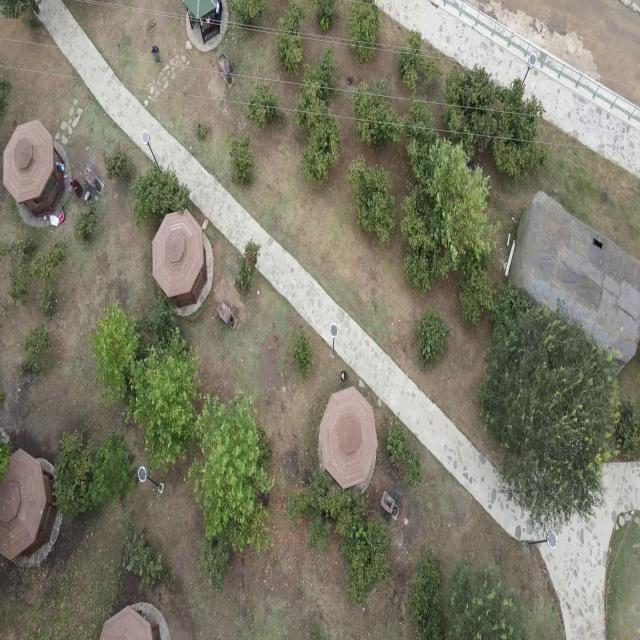people: (70, 178, 83, 198), (151, 46, 161, 62), (206, 15, 210, 28)
